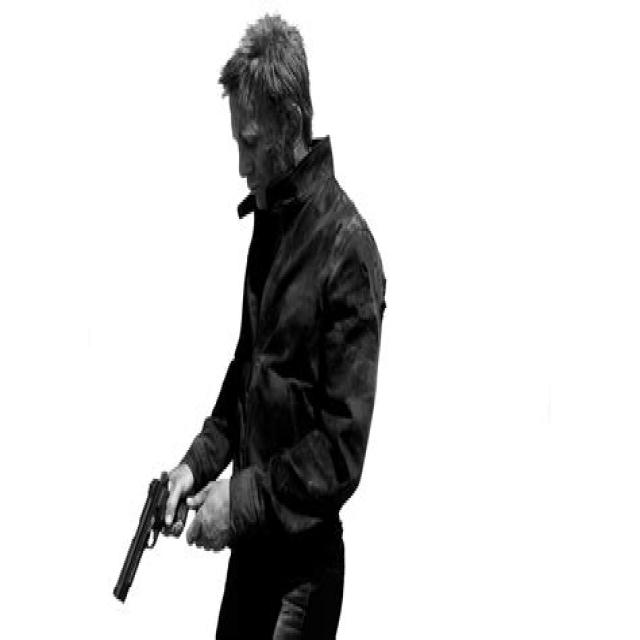weapons: (107, 456, 196, 623)
